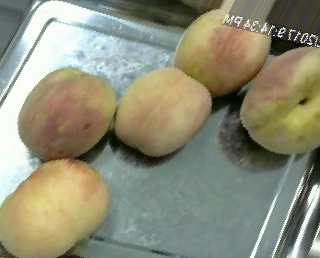Peach: (1, 158, 107, 256), (114, 66, 213, 157), (18, 68, 114, 160), (240, 43, 319, 153), (175, 9, 269, 94)
